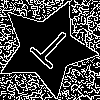T: (22, 23, 76, 77)
